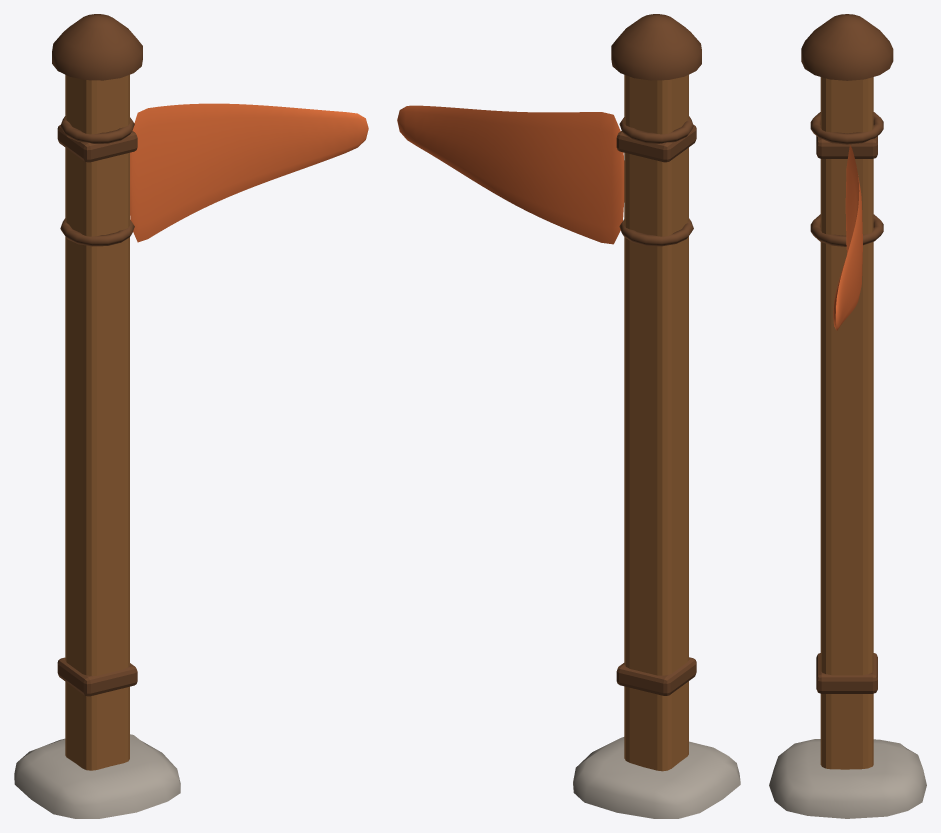
Rendered from checkpoint.glb.
3 views of the same model, side by side, from view 1: azimuth 30°, elevation 25°; view 2: azimuth 150°, elevation 25°; view 3: azimuth 270°, elevation 25° (orthographic).
Parts seen in each view (by area): view 1: Post, Flag; view 2: Post, Flag; view 3: Post, Flag.
Boxes of the visible parts, x1,y1,x2,y2 form: Post: (14,14,180,818); Flag: (60,103,368,246); Post: (573,14,740,818); Flag: (397,105,693,246); Post: (769,14,926,818); Flag: (810,112,883,330).
Size of the model in its own units: 1.09 by 2.4 by 0.447.
